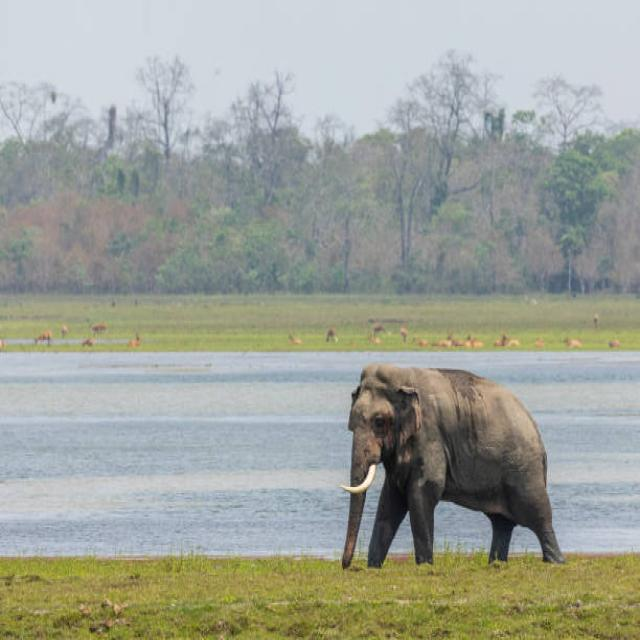Elephant: (344, 359, 571, 576)
